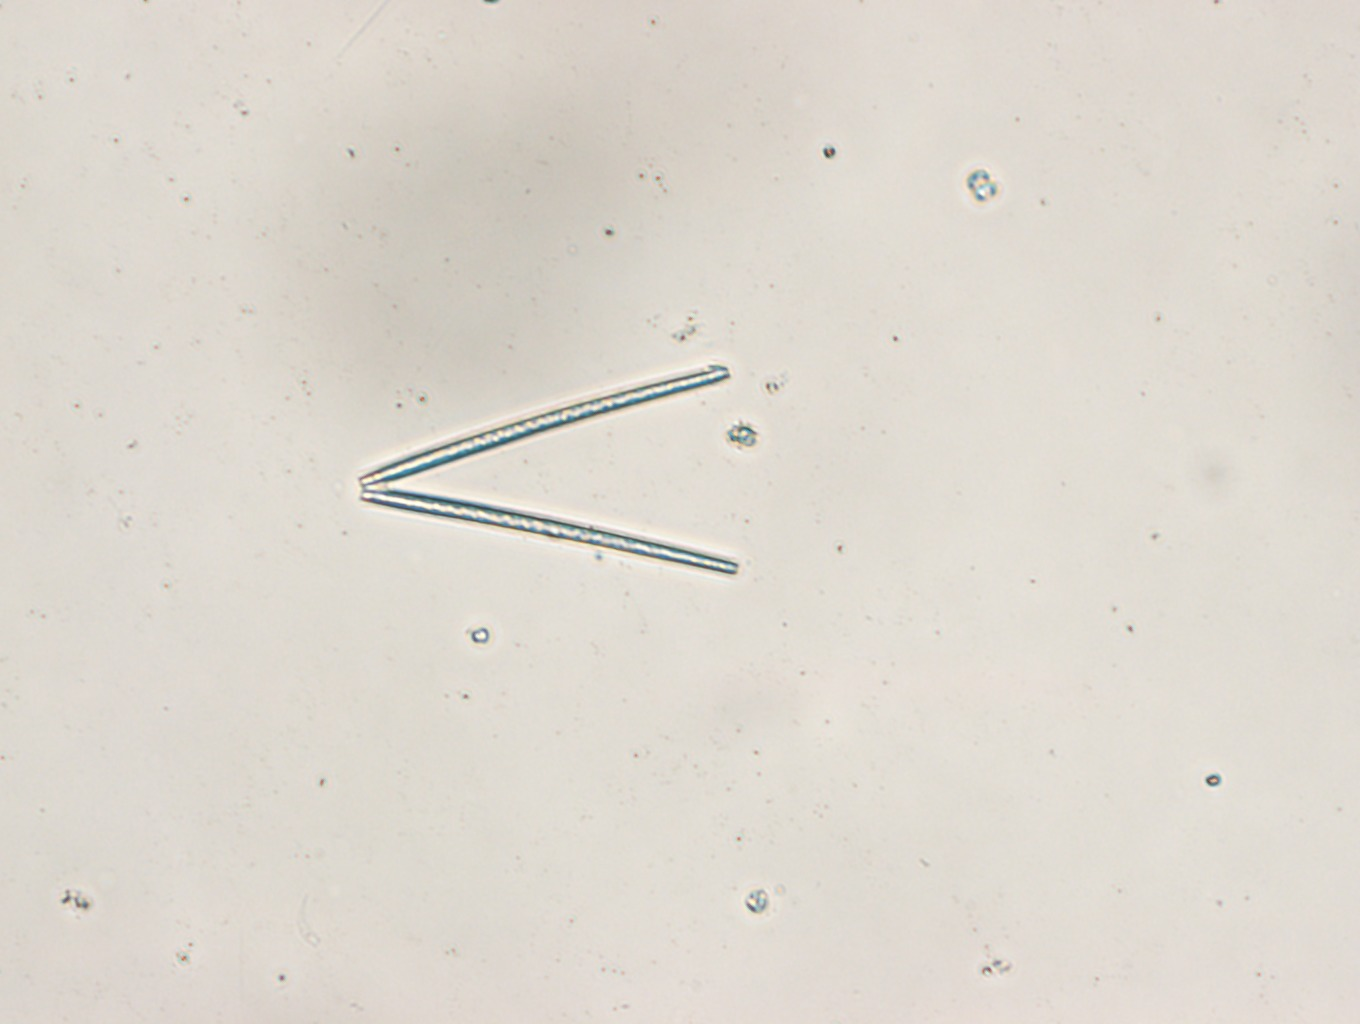thalassionema frauenfeldii: (350, 353, 746, 587)
